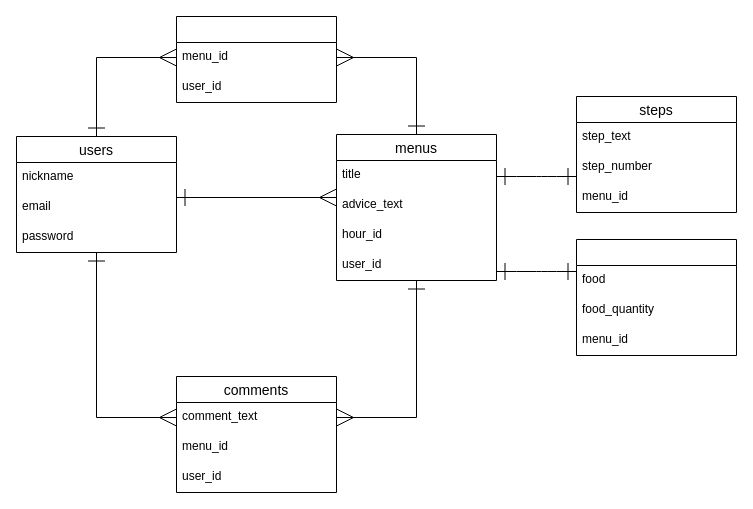
The diagram is 753 pixels wide and 509 high, and some of its shapes have lost their labels. Each missing label, with the box of its shape:
favorites: (176, 16, 336, 102)
materials: (576, 238, 736, 356)
